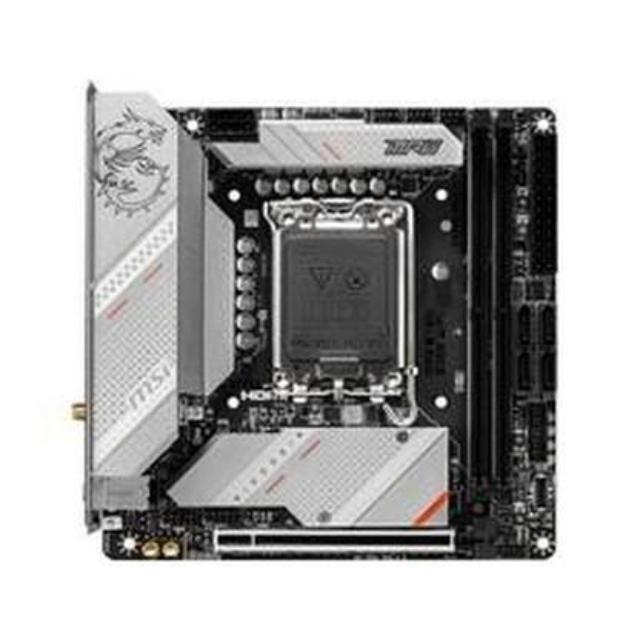Mainboard: (84, 94, 556, 560)
